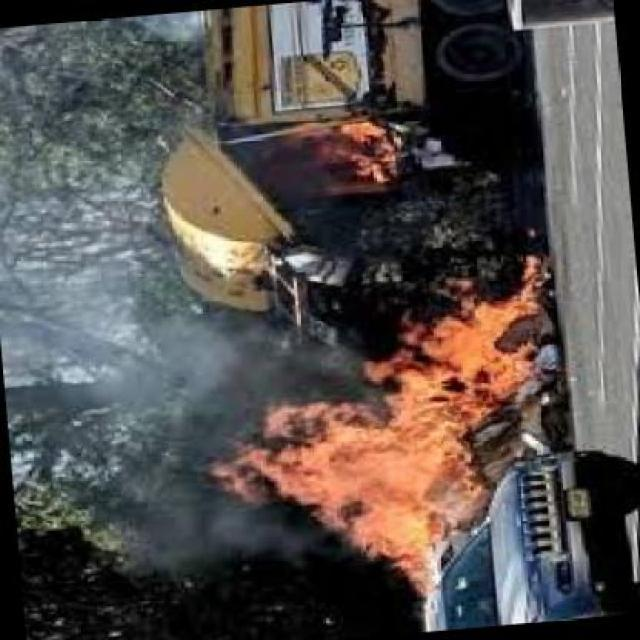Fire: (208, 273, 550, 601), (292, 104, 418, 190)
Smoke: (2, 270, 205, 604), (185, 304, 322, 389), (195, 504, 306, 580)
